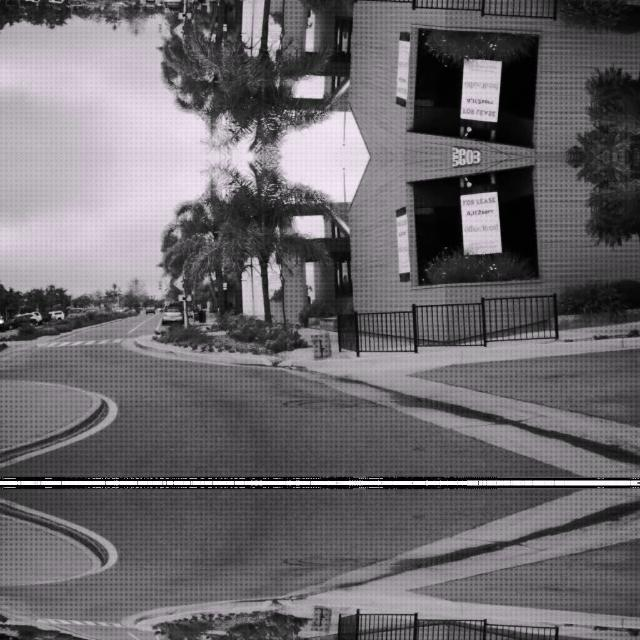pedestrianCrossing: (172, 270, 194, 292), (172, 20, 194, 42)
